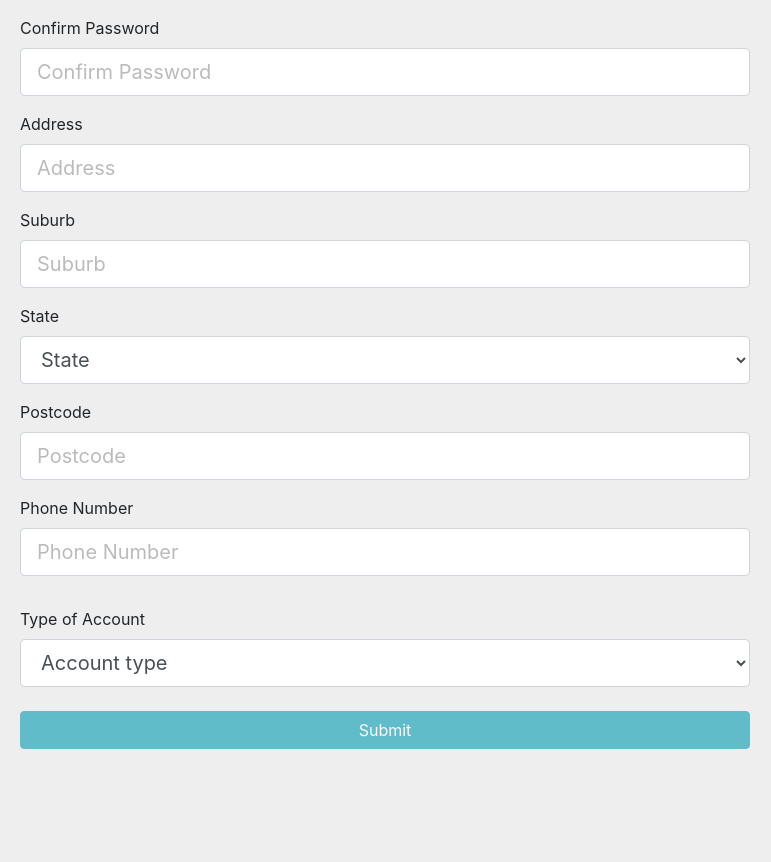
When Publisher registers for an account › should display ABN field when 'PUBLISHER' is selected as account role
(page scrolled)
Select "Publisher" in the dropdown labelled "Type of Account" at (385, 663), box x1=20 y1=639 x2=750 y2=687
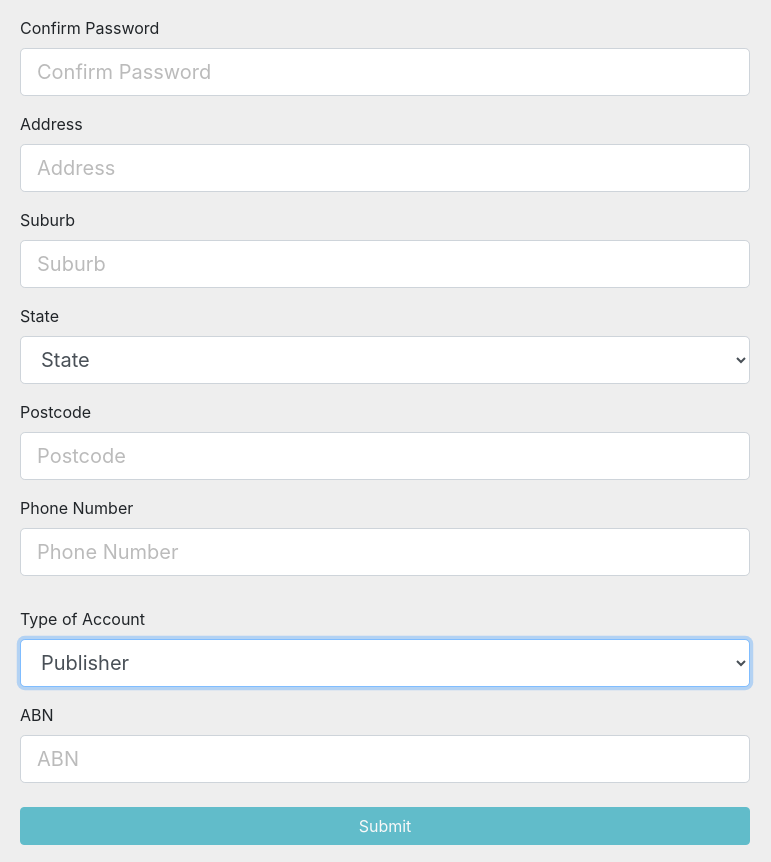
expect the field labelled "ABN" is shown: met, box x1=20 y1=735 x2=750 y2=783
